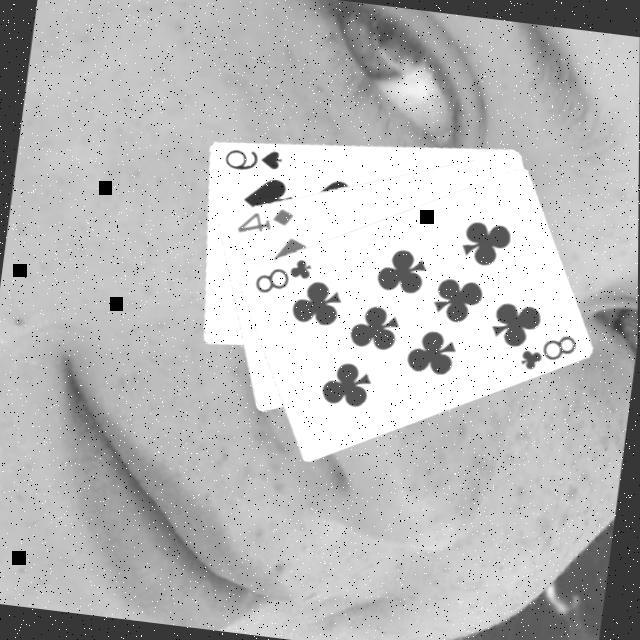4D: (234, 198, 298, 240)
8C: (516, 324, 582, 377), (252, 249, 318, 300)
9S: (221, 140, 288, 178)
